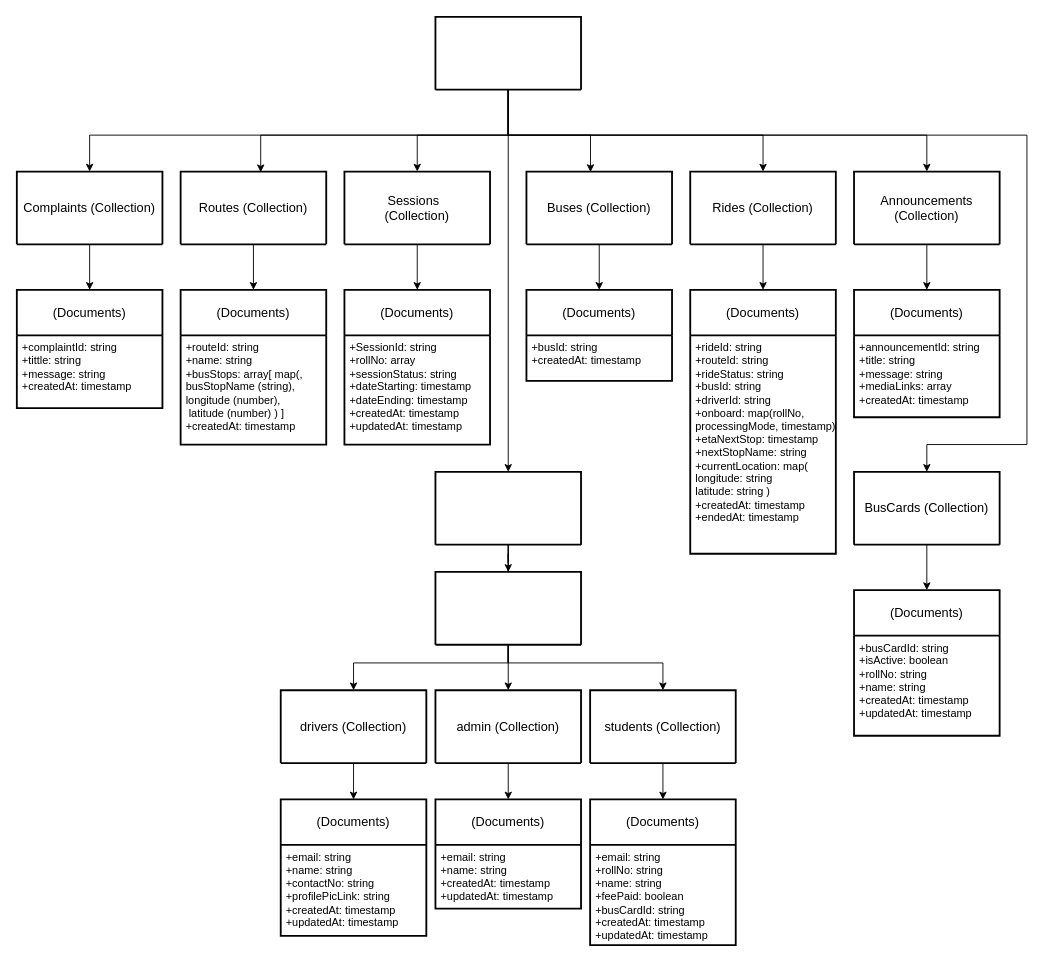
Image size: 1050x961. Some labels were removed from this diagram. The centre of each missing label's shape, as x and y in pixels:
Firestore: point 507,52
user_roles (document): point 507,608
Users (Collection): point 507,507
